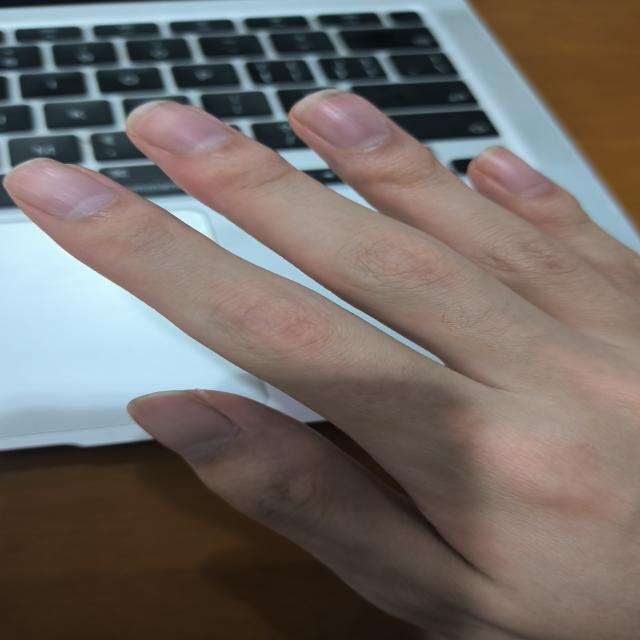Nail: (127, 390, 240, 460), (2, 158, 118, 218), (294, 89, 392, 150), (127, 101, 235, 155), (475, 145, 549, 194)
